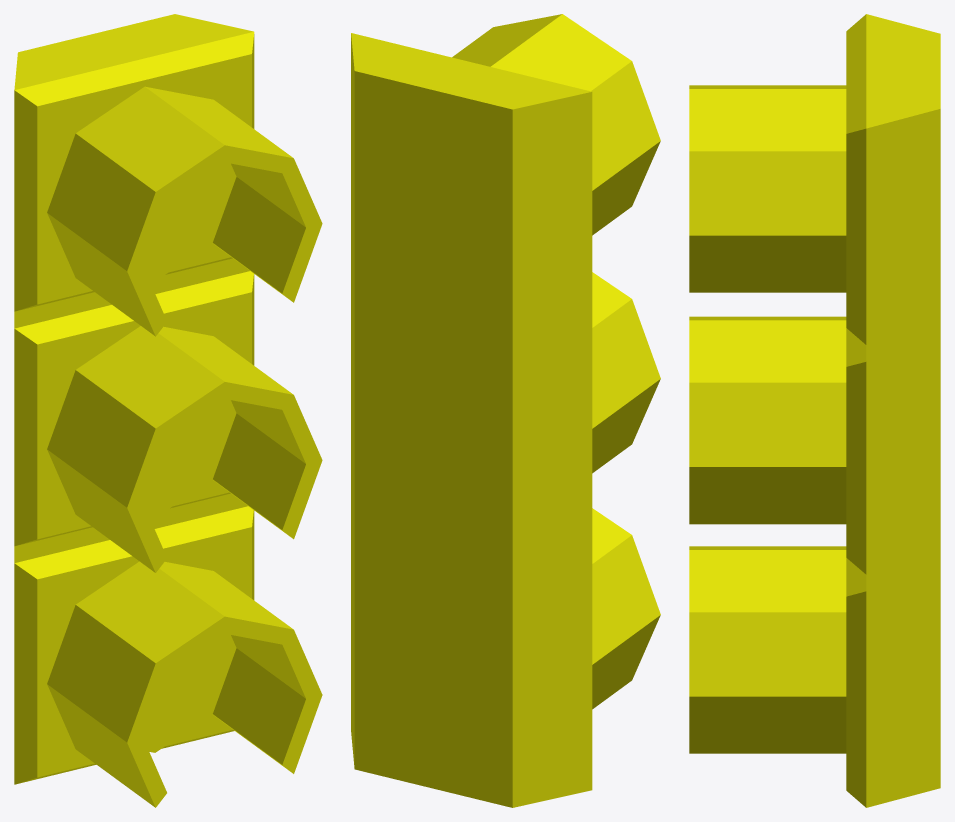
File: cty_traffic.glb
The picture shows the model from 3 angles, left to right: view 1: azimuth 30°, elevation 25°; view 2: azimuth 150°, elevation 25°; view 3: azimuth 270°, elevation 25°; orthographic projection. The views are drawn at different scales.
Parts seen in each view (by area): view 1: SM_Prop_TrafficLight_01; view 2: SM_Prop_TrafficLight_01; view 3: SM_Prop_TrafficLight_01.
Boxes of the visible parts, <box> form: SM_Prop_TrafficLight_01: <box>14,14,322,807</box>; SM_Prop_TrafficLight_01: <box>351,14,660,807</box>; SM_Prop_TrafficLight_01: <box>689,14,940,807</box>.
Bounding box in the file's own units: 0.00327 × 0.00905 × 0.00303.
1 material, 1 textured.
